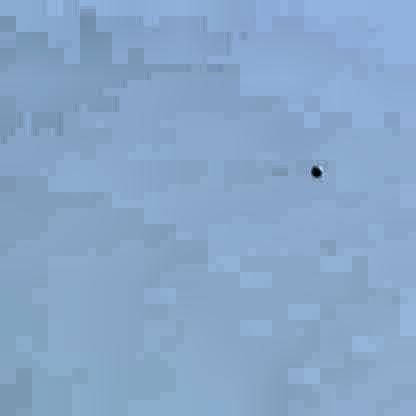golfball: (306, 163, 322, 176)
